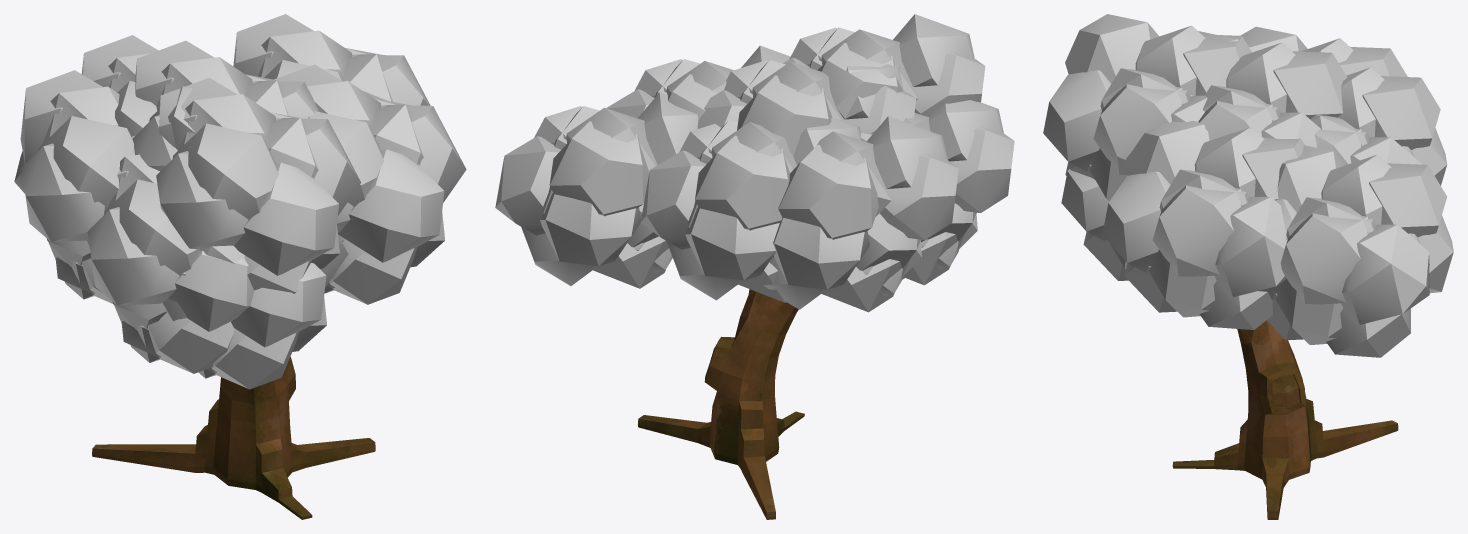
The model's file is Arvi Normal Com Textura.fbx.
3 renders of one model, left to right at view 1: azimuth 30°, elevation 25°; view 2: azimuth 150°, elevation 25°; view 3: azimuth 270°, elevation 25°, orthographic. The views are drawn at different scales.
Parts seen in each view (by area): view 1: Folha.005, Folha.001, Folha.006, Folha.003, Tronco, Folha.008, Folha.004, Folha.002, Folha.007; view 2: Folha.003, Folha.002, Folha.007, Tronco, Folha.005, Folha.004, Folha.006, Folha.001; view 3: Folha.001, Folha.002, Folha.005, Tronco, Folha.004, Folha.007, Folha.008, Folha.003.
Boxes of the visible parts, x1,y1,x2,y2 form: Folha.005: (156,77,361,293); Folha.001: (274,64,466,304); Folha.006: (87,136,253,373); Folha.003: (14,70,134,303); Tronco: (92,356,375,519); Folha.008: (162,234,348,389); Folha.004: (132,40,319,171); Folha.002: (233,14,430,105); Folha.007: (81,35,158,136); Folha.003: (763,116,958,312); Folha.002: (495,92,698,288); Folha.007: (640,117,860,302); Tronco: (638,289,804,519); Folha.005: (783,14,985,119); Folha.004: (697,60,916,156); Folha.006: (860,100,1014,285); Folha.001: (606,45,790,119); Folha.001: (1102,121,1304,329); Folha.002: (1259,145,1453,357); Folha.005: (1043,14,1251,201); Tronco: (1172,320,1398,519); Folha.004: (1190,31,1346,147); Folha.007: (1310,67,1447,185); Folha.008: (1061,169,1128,280); Folha.003: (1240,26,1407,76).
Size of the model in its own units: 422 by 411 by 380.
